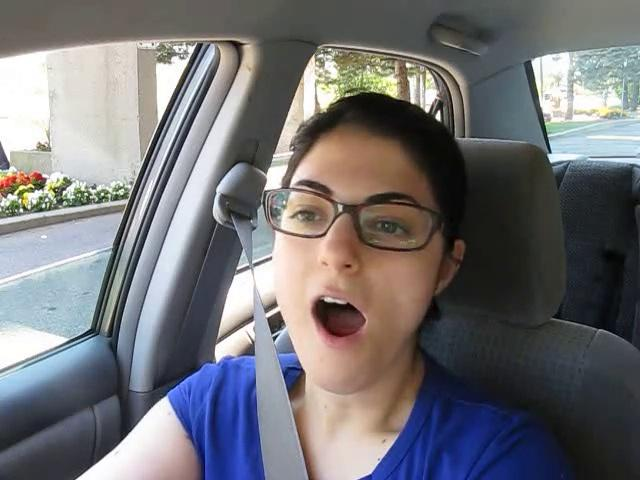open_eyeL: (272, 194, 340, 240)
open_eyeR: (353, 209, 430, 252)
yawn: (287, 283, 385, 353)
